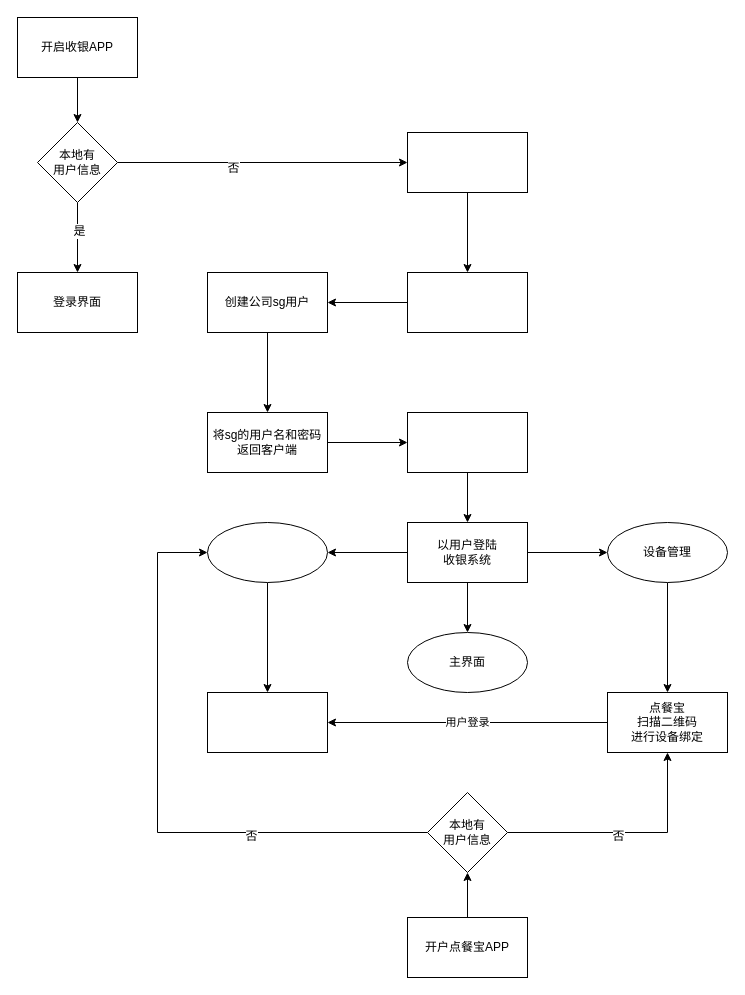
Some shapes in this 745 by 995 pixel diagram are drawn without their labels. Here are the shapes that lost their labels. From the top down, the box of each, then its label:
(406, 132, 528, 192): 公司注册
(406, 272, 528, 332): 手机验证
(406, 412, 528, 472): 默认产生收银账号 密码同公司用户
(206, 522, 328, 582): 用户管理
(206, 692, 328, 752): CRUD用户管理
